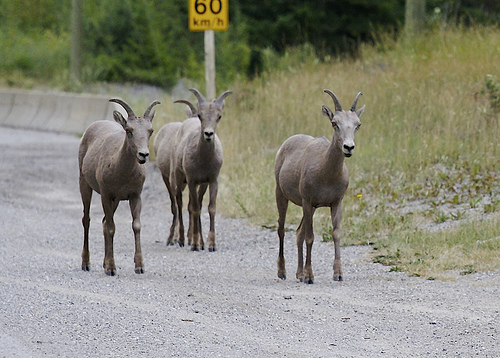goat: (272, 87, 366, 285), (77, 98, 162, 279), (154, 86, 232, 252)
